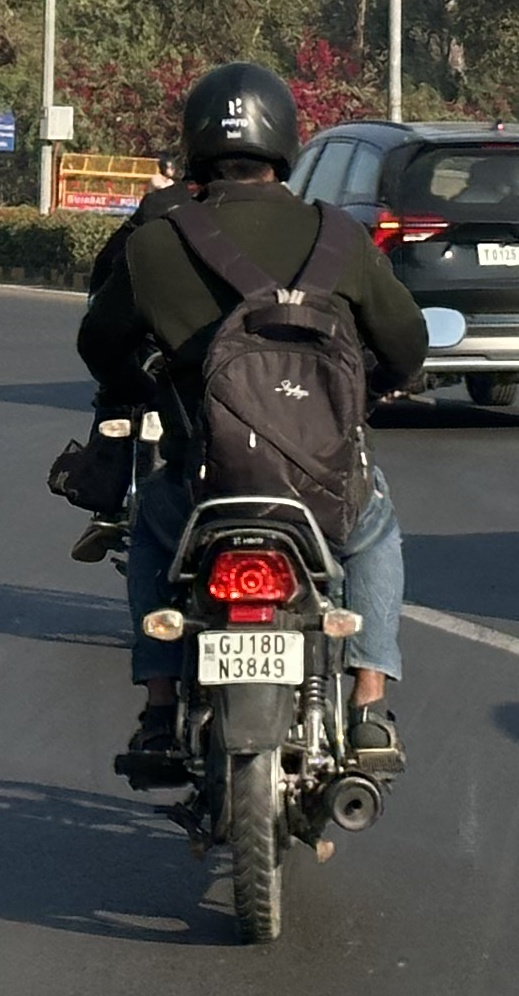BikeWithRider: (37, 51, 468, 956)
Helmet: (166, 51, 310, 206)
